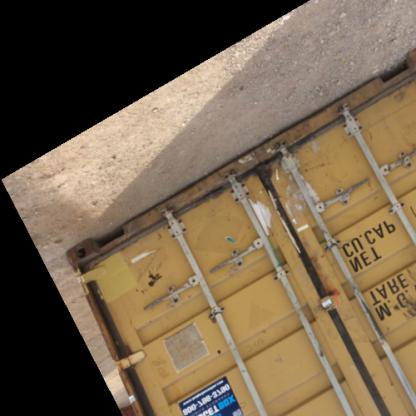Damage: (238, 148, 322, 240), (236, 297, 296, 373), (121, 240, 175, 305), (396, 260, 414, 346), (146, 350, 178, 390), (359, 170, 387, 208)
